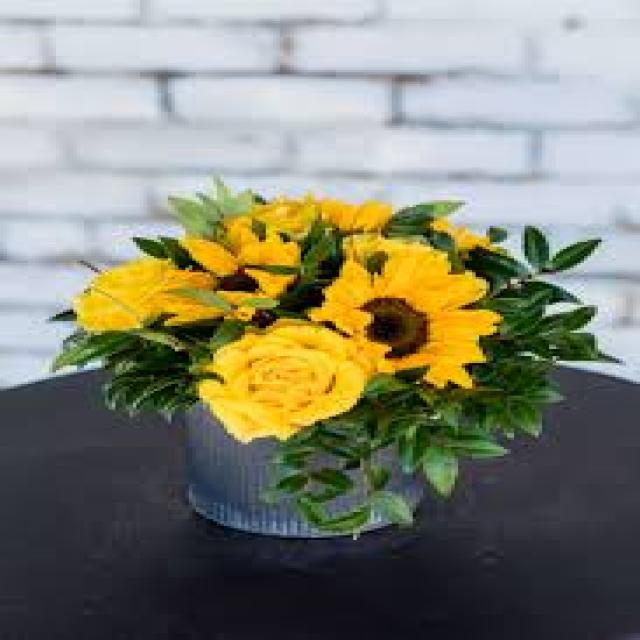sunflower: (308, 252, 497, 388)
